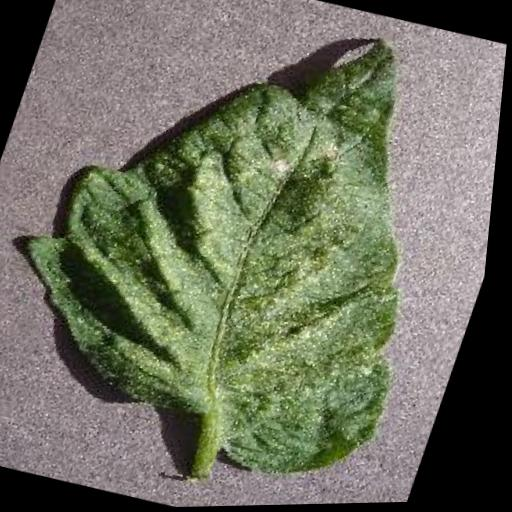Spider Mites: (0, 0, 508, 503)
